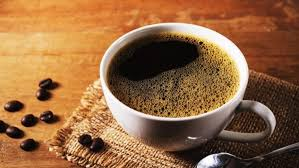kahve: (100, 22, 276, 151)
